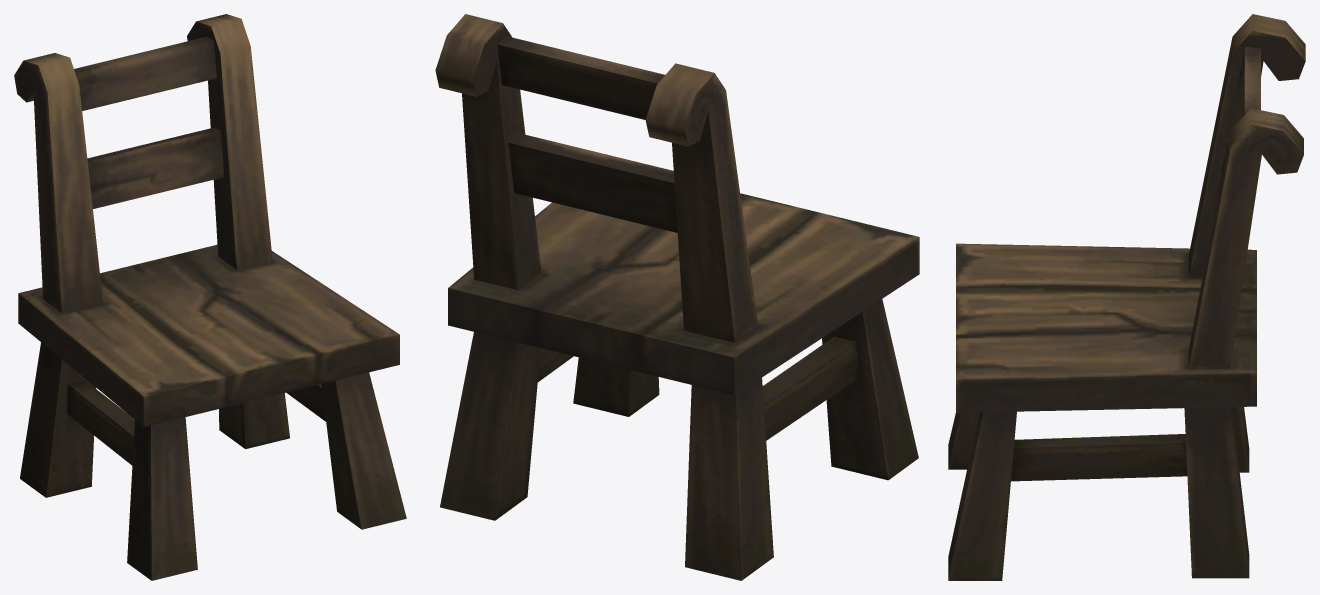
Rendered from crypt_chair03.fbx.
3 renders of one model, left to right at view 1: azimuth 30°, elevation 25°; view 2: azimuth 150°, elevation 25°; view 3: azimuth 270°, elevation 25°, orthographic. The views are drawn at different scales.
Parts seen in each view (by area): view 1: miscellaneous; view 2: miscellaneous; view 3: miscellaneous.
Boxes of the visible parts, bbox=[...] form: miscellaneous: bbox=[14, 14, 406, 580]; miscellaneous: bbox=[435, 14, 919, 580]; miscellaneous: bbox=[948, 14, 1305, 580].
Bounding box in the file's own units: 0.9546 × 1.43 × 1.04.
